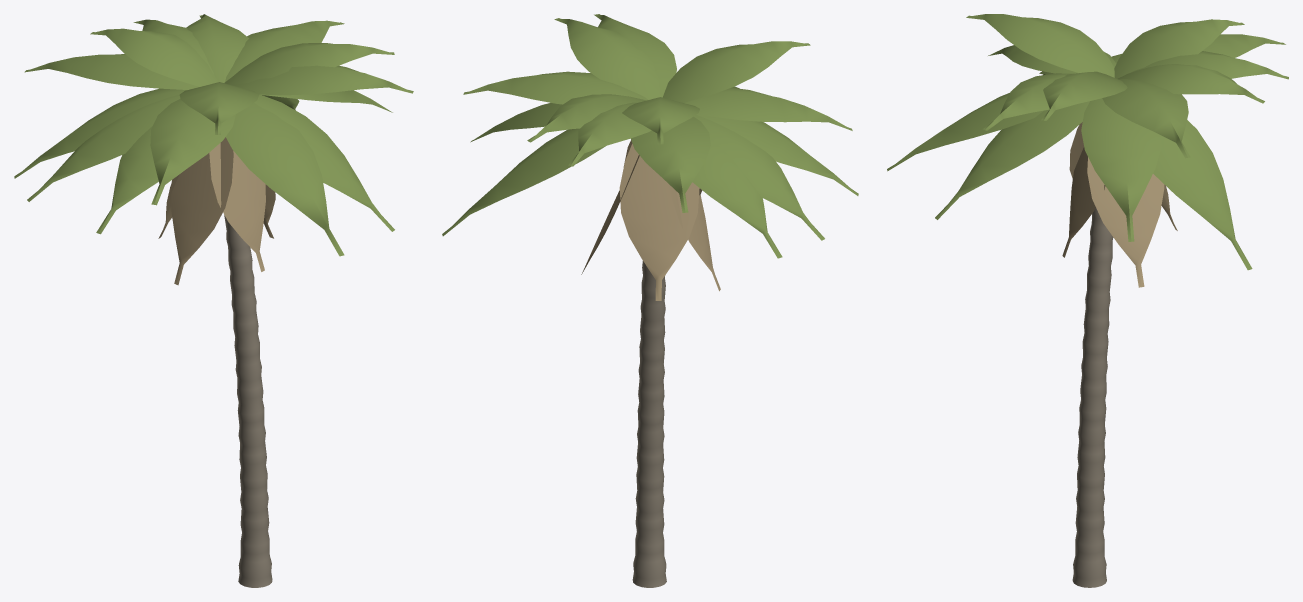
Rendered from SM_VB_PalmTree_A.fbx.
3 views of the same model, side by side, from view 1: azimuth 30°, elevation 25°; view 2: azimuth 150°, elevation 25°; view 3: azimuth 270°, elevation 25° (orthographic).
Parts seen in each view (by area): view 1: SM_VB_PalmTree_A; view 2: SM_VB_PalmTree_A; view 3: SM_VB_PalmTree_A.
Boxes of the visible parts, left/top/right/bottom form: SM_VB_PalmTree_A: left=14, top=14, right=413, bottom=587; SM_VB_PalmTree_A: left=442, top=14, right=858, bottom=587; SM_VB_PalmTree_A: left=887, top=14, right=1288, bottom=587.
Size of what is drawn, in the model's own units: 6.91 by 9.74 by 6.69.
